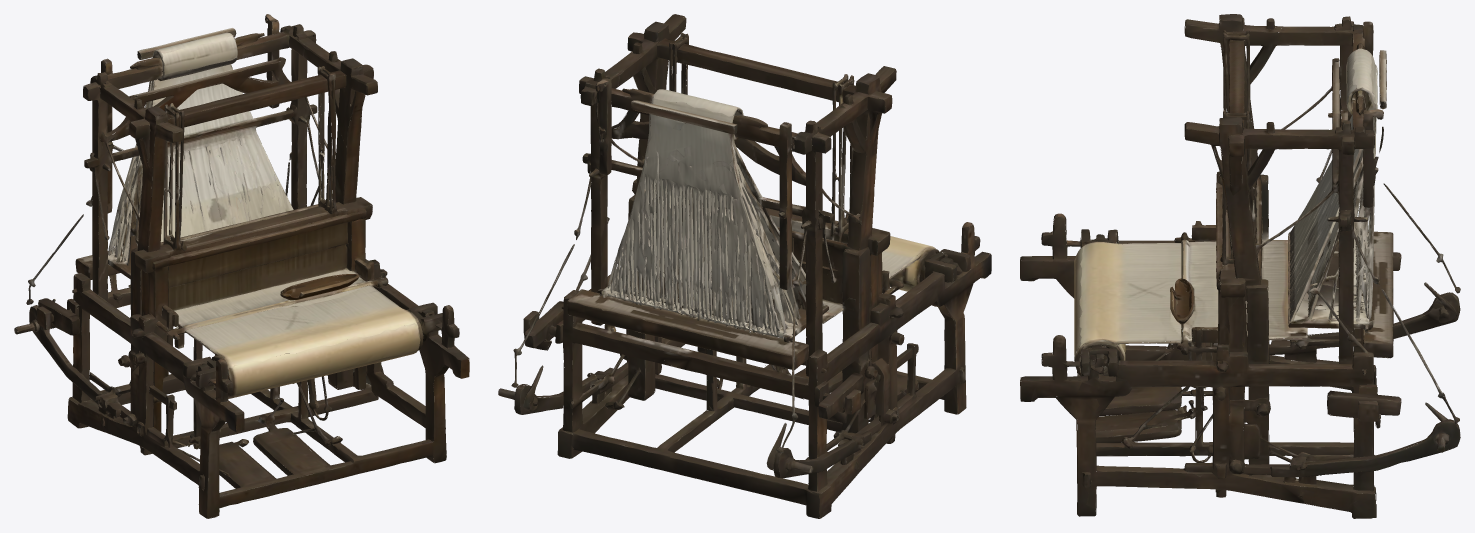
File: loom.glb
3 views of the same model, side by side, from view 1: azimuth 30°, elevation 25°; view 2: azimuth 150°, elevation 25°; view 3: azimuth 270°, elevation 25° (orthographic). The views are drawn at different scales.
Visible parts, largest first — view 1: loom_lux3d; view 2: loom_lux3d; view 3: loom_lux3d.
Part boxes in pixels (x1,y1,x2,y2): loom_lux3d: [14, 14, 469, 518]; loom_lux3d: [498, 14, 991, 518]; loom_lux3d: [1020, 14, 1460, 518].
Bounding box in the file's own units: 5.2 × 5.81 × 6.
1 material, 1 textured.
